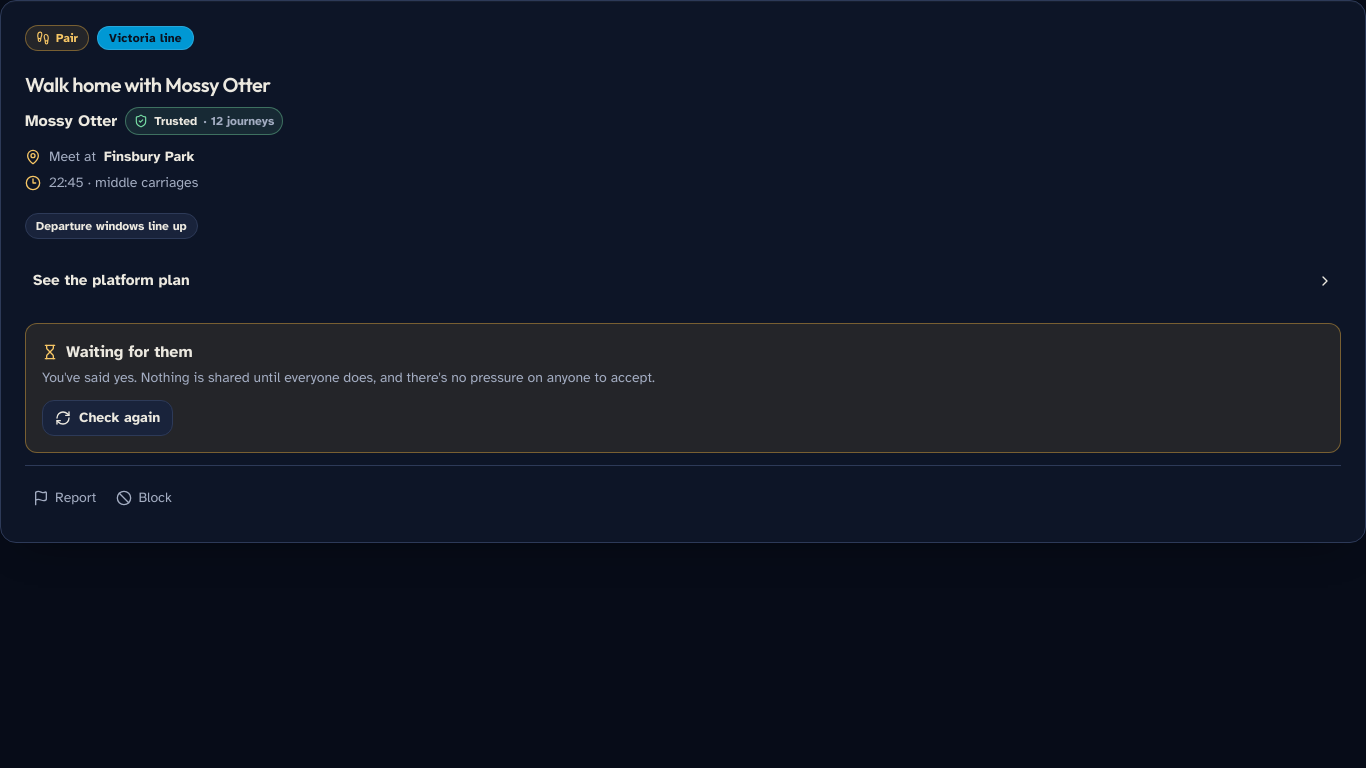
it: "We travelled together" › is hidden until everyone has accepted
The width and height of the screenshot is (1366, 768).
Click the button "See the platform plan" at (111, 280), box 17,258 -> 1349,302
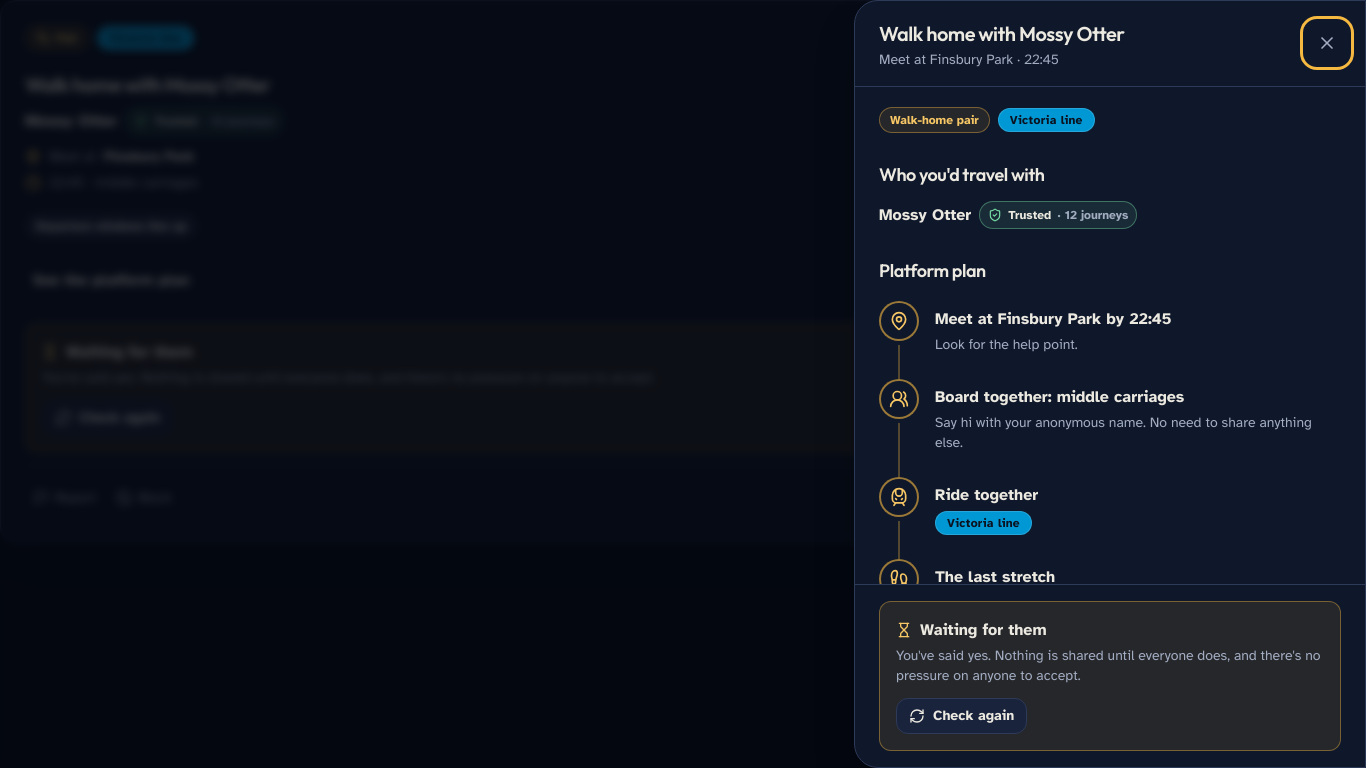
Expected: the dialog is shown, 854,0 -> 1365,767
